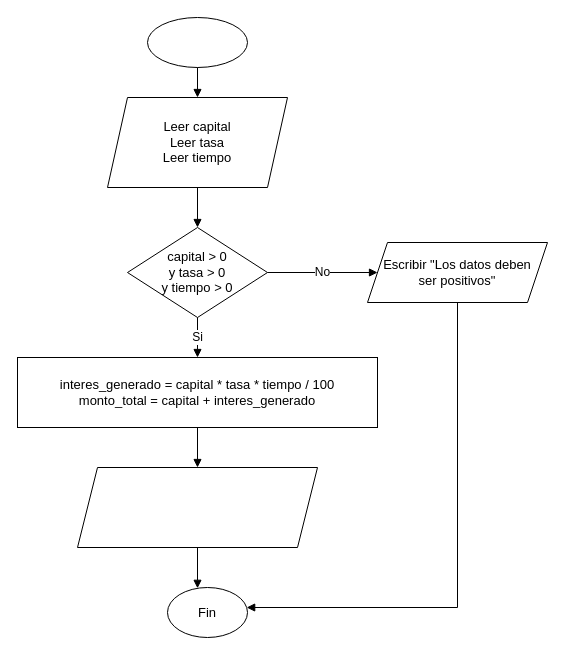
Some shapes in this 565 by 655 pixel diagram are drawn without their labels. Each missing label, with the centre of its shape:
"Escribir capital Escribir interes_generado Escribir monto_total" goes at point 197,507.
"Inicio" goes at point 197,42.
